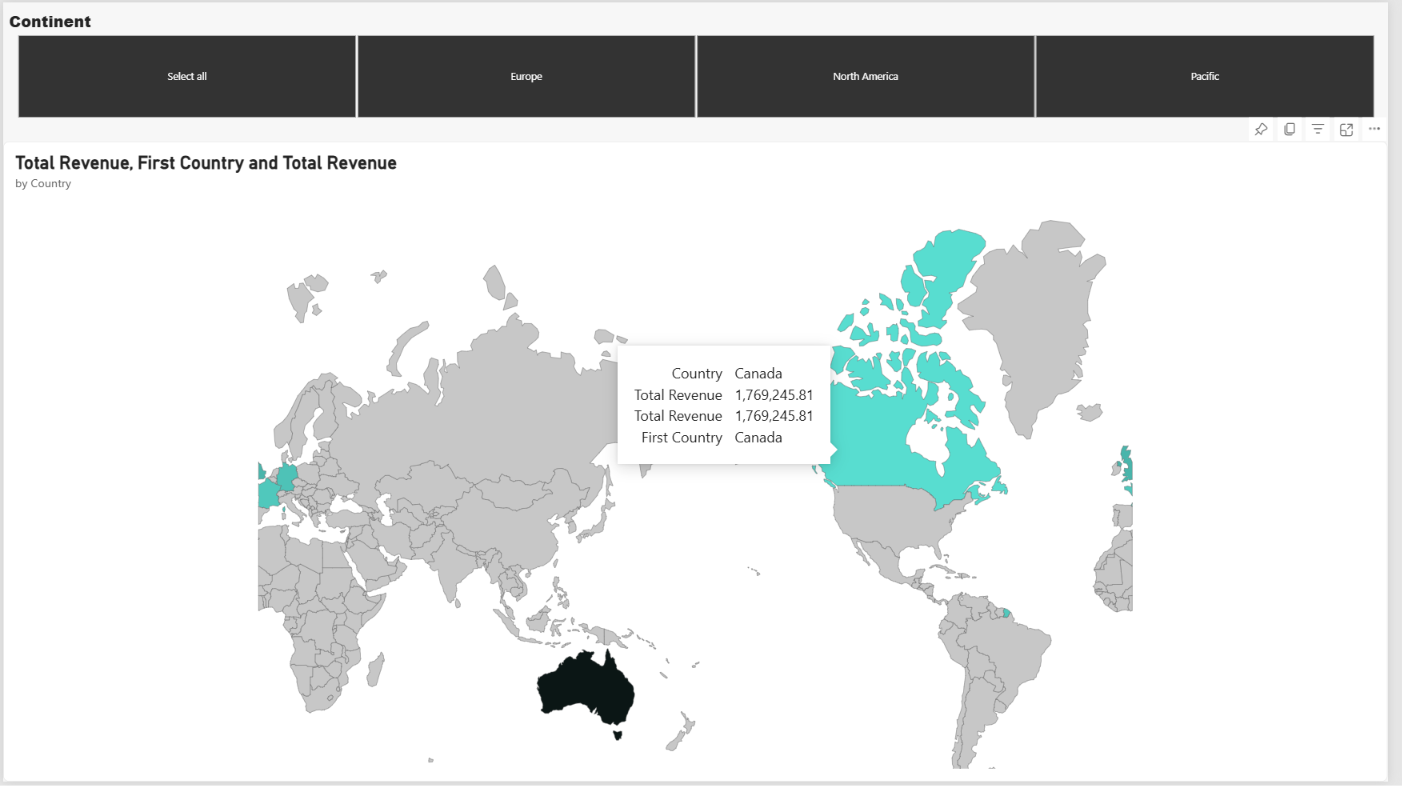

Layout of this report page (visuals, bound fields, positions):
{"tool":"powerbi","page":{"name":"Map","canvas":[1920,1080],"ordinal":1},"visuals":[{"type":"slicer","fields":{"Values":["Dim_Territory Lookup.Continent"]},"box":[0,12,1920,150],"z":1000},{"type":"shapeMap","fields":{"Category":["Dim_Territory Lookup.Country"],"Value":["Measure.Total Revenue"]},"box":[0,192.5,1920,887.5],"z":1001}]}

Visuals, with their boxes in screenshot pixels (x1, y1, x2, y2), scaled from the page's 1920x1080 canvas onto the 1402x786 screenshot:
slicer - Dim_Territory Lookup.Continent: x1=0, y1=9, x2=1401, y2=118
shapeMap - Dim_Territory Lookup.Country x Measure.Total Revenue: x1=0, y1=140, x2=1401, y2=785
